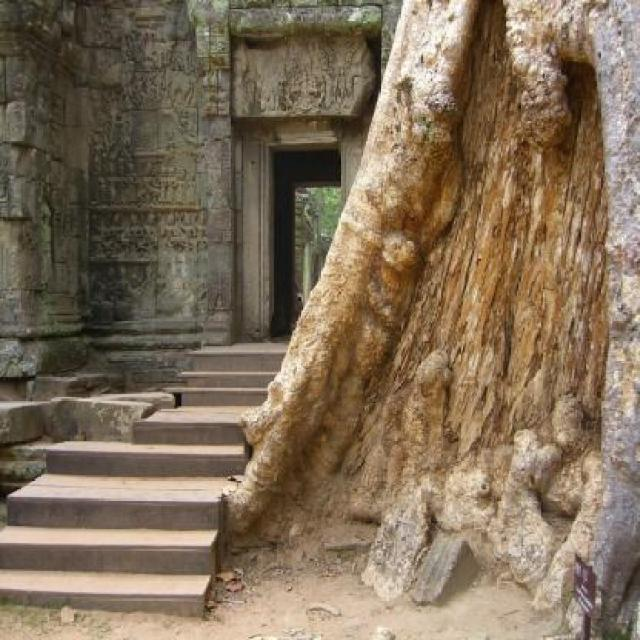stair: (0, 338, 291, 617)
